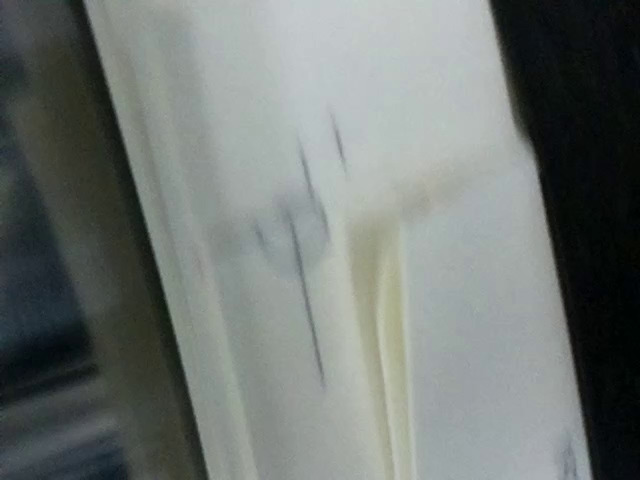not_sure: (210, 145, 338, 276)
